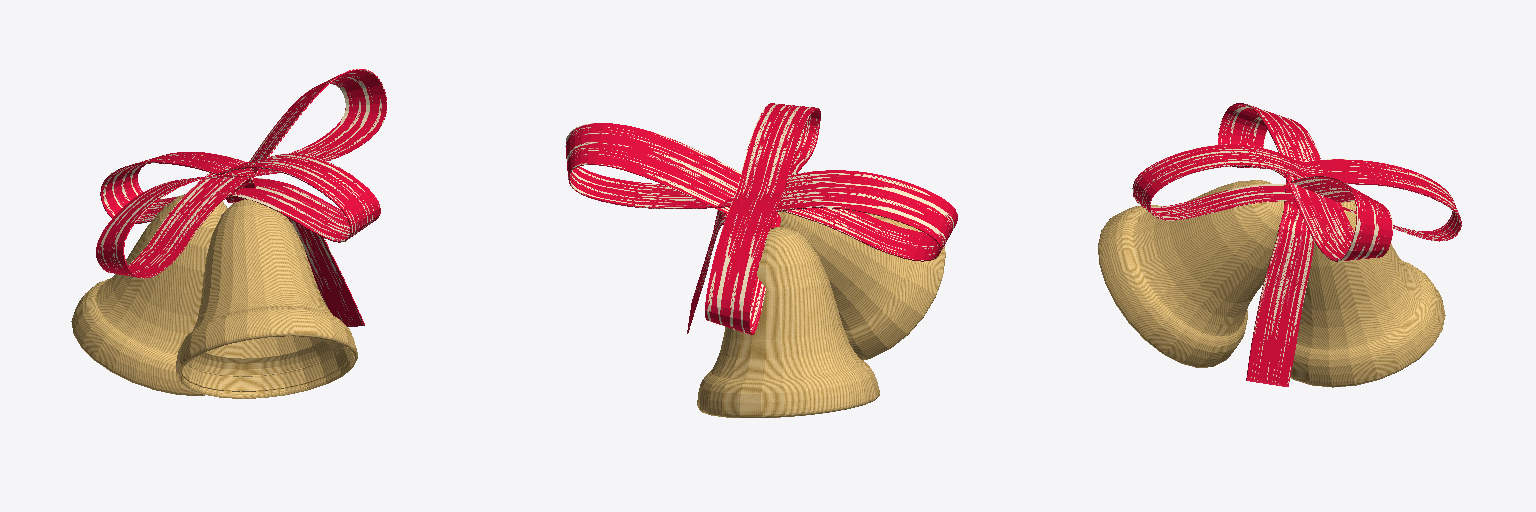
3 renders of one model, left to right at view 1: azimuth 30°, elevation 25°; view 2: azimuth 150°, elevation 25°; view 3: azimuth 270°, elevation 25°, orthographic.
Visible parts, largest first — view 1: Lenta, Bell_01, Bell; view 2: Lenta, Bell, Bell_01; view 3: Lenta, Bell_01, Bell.
Boxes of the visible parts, box(x1,y1,x2,y2) form: Lenta: box(96, 69, 386, 326); Bell_01: box(176, 199, 357, 398); Bell: box(71, 195, 227, 395); Lenta: box(565, 103, 957, 334); Bell: box(697, 227, 879, 417); Bell_01: box(779, 211, 945, 360); Lenta: box(1132, 103, 1461, 386); Bell_01: box(1098, 180, 1283, 367); Bell: box(1290, 201, 1445, 387).
Bounding box in the file's own units: 434 × 319 × 411.
Materials: 2 (2 with a texture image).